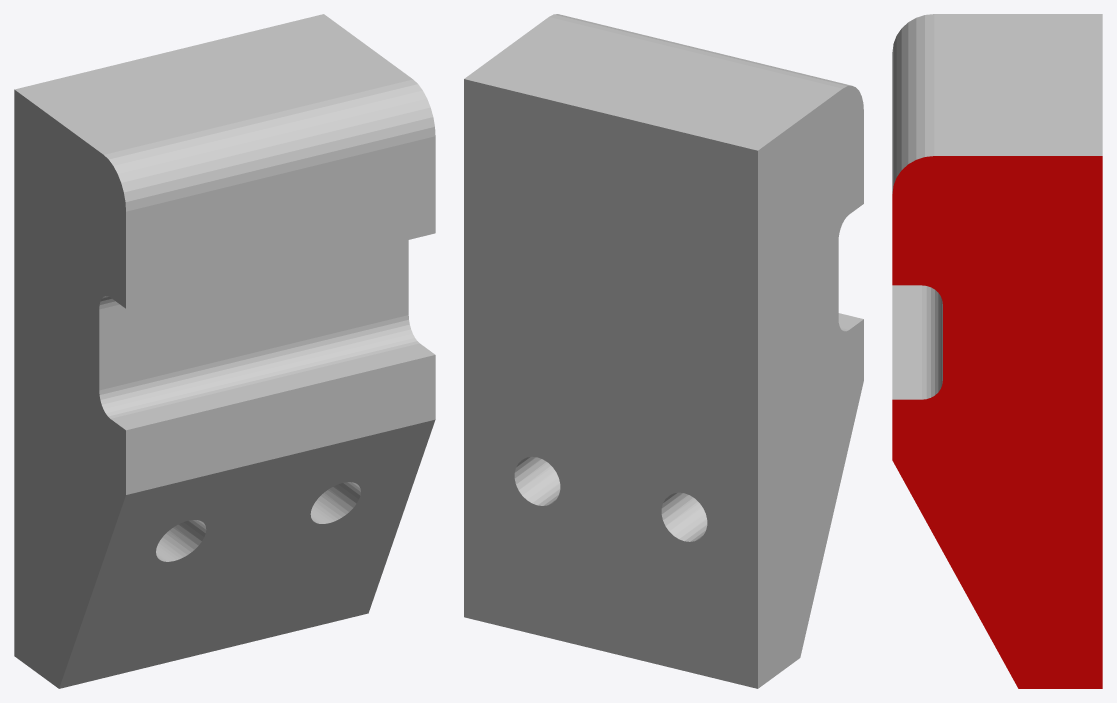
Rendered from TESTE_M5_stp_4.obj.
The picture shows the model from 3 angles, left to right: view 1: azimuth 30°, elevation 25°; view 2: azimuth 150°, elevation 25°; view 3: azimuth 270°, elevation 25°; orthographic projection. The views are drawn at different scales.
Parts seen in each view (by area): view 1: Object1; view 2: Object1; view 3: Object1.
Part boxes in pixels (<box>): Object1: <box>14,14,435,688</box>; Object1: <box>464,14,863,688</box>; Object1: <box>892,14,1102,688</box>.
Size of the model in its own units: 50.8 by 88.9 by 31.75.
